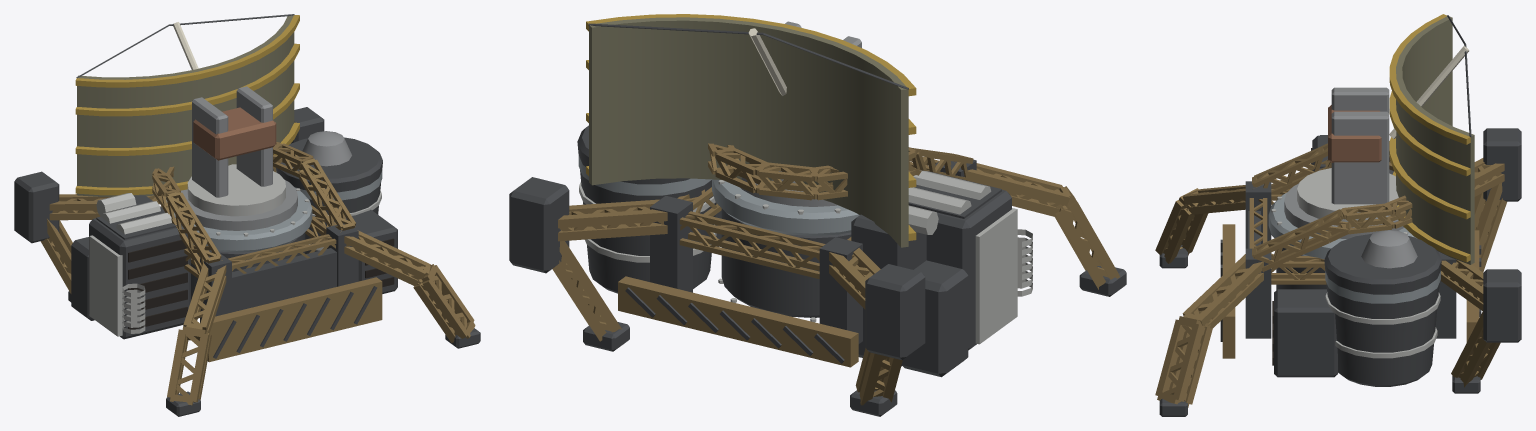
Rendered from radar.glb.
3 views of the same model, side by side, from view 1: azimuth 30°, elevation 25°; view 2: azimuth 150°, elevation 25°; view 3: azimuth 270°, elevation 25° (orthographic). The views are drawn at different scales.
Visible parts, largest first — view 1: body, anim_spin_radar; view 2: body, anim_spin_radar; view 3: body, anim_spin_radar.
Part boxes in pixels (left/top/right/bottom): body: left=14, top=107, right=480, bottom=416; anim_spin_radar: left=75, top=14, right=299, bottom=216; body: left=509, top=125, right=1126, bottom=416; anim_spin_radar: left=586, top=14, right=916, bottom=247; body: left=1155, top=128, right=1521, bottom=416; anim_spin_radar: left=1297, top=14, right=1474, bottom=264.
Bounding box in the file's own units: 3.02 × 2.44 × 2.85.
